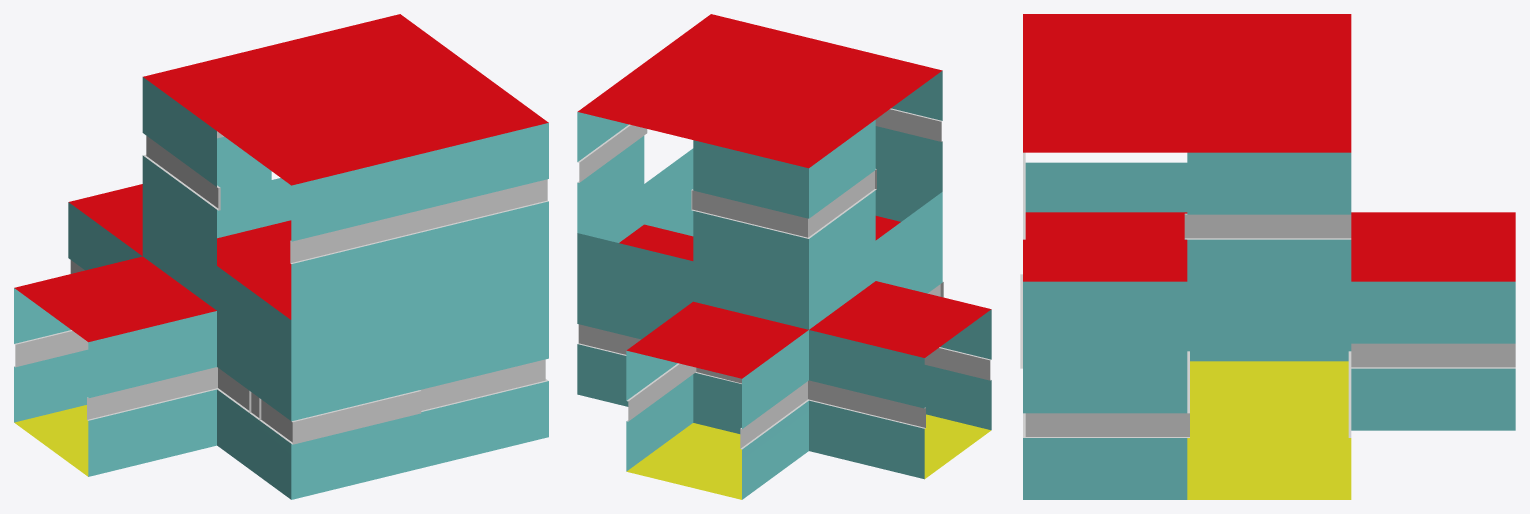
Rendered from ProceduralSettlements.fbx.
3 renders of one model, left to right at view 1: azimuth 30°, elevation 25°; view 2: azimuth 150°, elevation 25°; view 3: azimuth 270°, elevation 25°, orthographic. The views are drawn at different scales.
Parts seen in each view (by area): view 1: triple-exit-stair, corridor-t, corridor-cross, wall, corridor-1; view 2: triple-exit-stair, corridor-cross, corridor-t, corridor-1, corridor-l; view 3: triple-exit-stair, corridor-cross, corridor-t, corridor-l, corridor-1.
Boxes of the visible parts, left/top/right/bottom form: triple-exit-stair: left=142, top=14, right=548, bottom=497; corridor-t: left=14, top=241, right=291, bottom=476; corridor-cross: left=14, top=184, right=292, bottom=474; wall: left=291, top=334, right=421, bottom=499; corridor-1: left=217, top=293, right=292, bottom=499; triple-exit-stair: left=577, top=14, right=942, bottom=421; corridor-cross: left=577, top=226, right=991, bottom=499; corridor-t: left=577, top=216, right=991, bottom=479; corridor-1: left=875, top=216, right=942, bottom=281; corridor-l: left=577, top=225, right=741, bottom=396; triple-exit-stair: left=1023, top=14, right=1351, bottom=499; corridor-cross: left=1187, top=212, right=1515, bottom=499; corridor-t: left=1023, top=212, right=1351, bottom=499; corridor-l: left=1187, top=351, right=1350, bottom=499; corridor-1: left=1023, top=212, right=1187, bottom=301.
Bounding box in the file's own units: 900 × 700 × 905.
